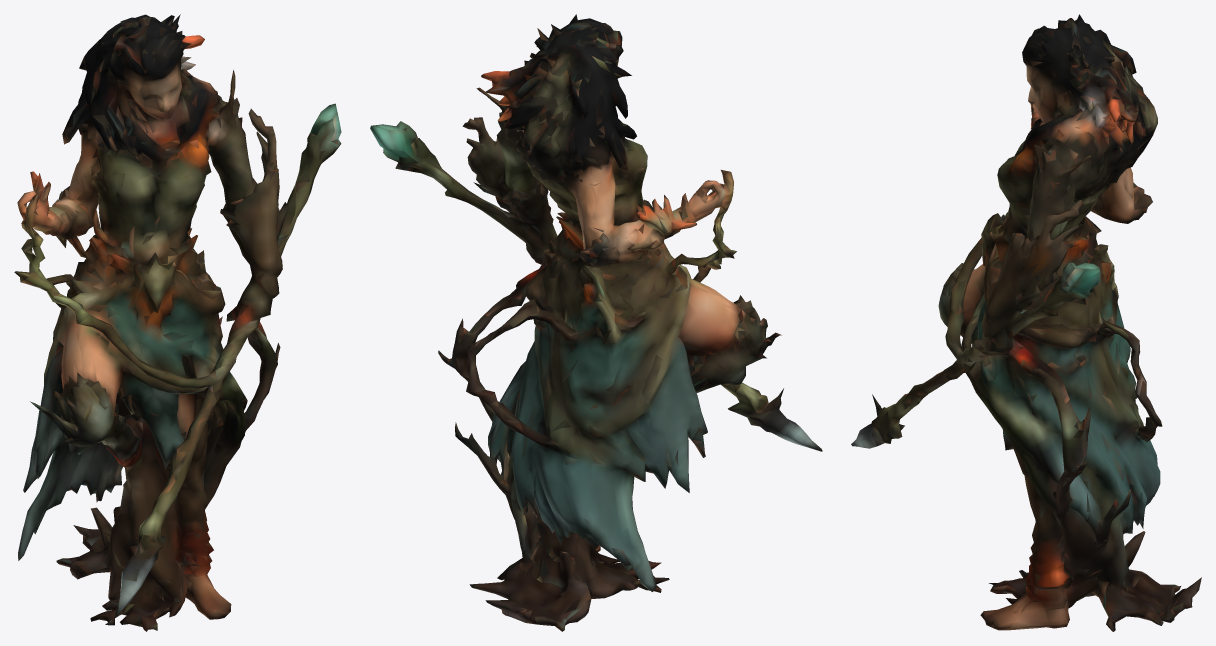
File: Azel_final.glb
The picture shows the model from 3 angles, left to right: view 1: azimuth 30°, elevation 25°; view 2: azimuth 150°, elevation 25°; view 3: azimuth 270°, elevation 25°; orthographic projection. The views are drawn at different scales.
Visible parts, largest first — view 1: Mesh1.0; view 2: Mesh1.0; view 3: Mesh1.0.
Boxes of the visible parts, x1=… form: Mesh1.0: x1=14, y1=14, x2=341, y2=631; Mesh1.0: x1=370, y1=14, x2=822, y2=631; Mesh1.0: x1=851, y1=14, x2=1201, y2=631.
Bounding box in the file's own units: 1.17 × 1.8 × 0.9776.
Materials: 1 (1 with a texture image).
